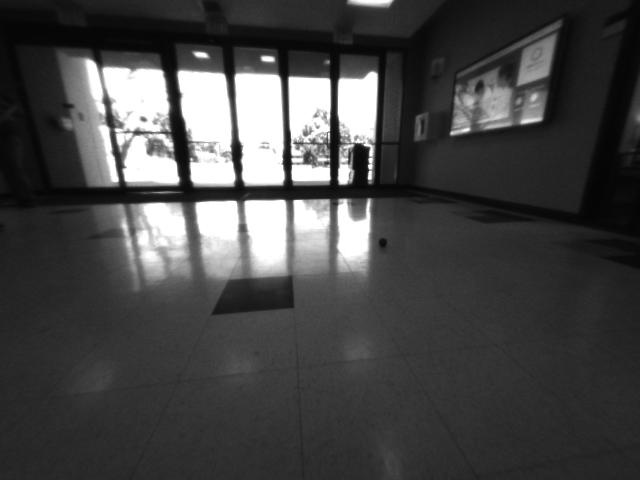dogtoy: (369, 230, 398, 257)
